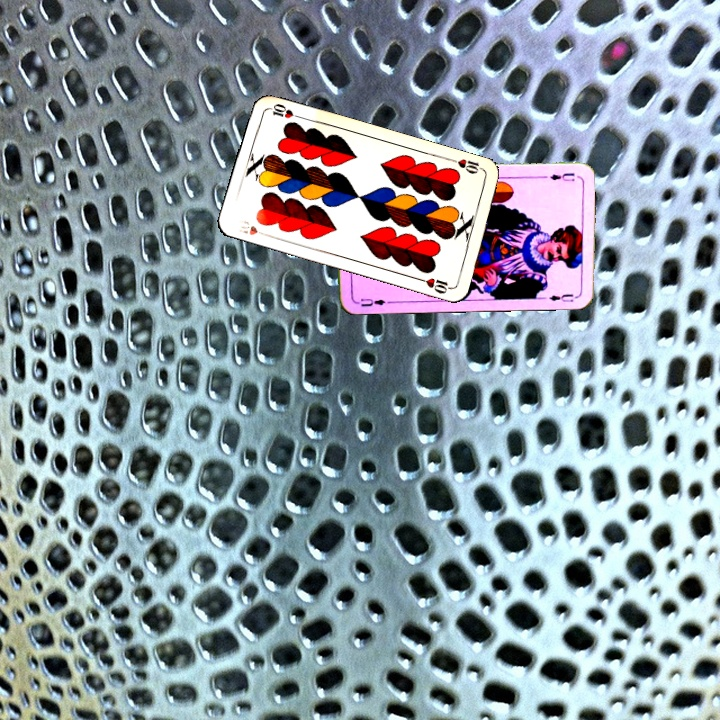EU: (352, 294, 388, 309), (545, 169, 577, 184)
H10: (233, 216, 271, 239), (447, 155, 487, 176)
